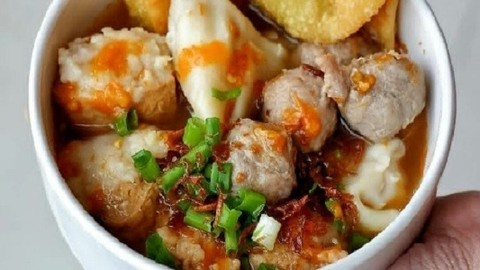bakso_malang: (56, 2, 426, 270)
